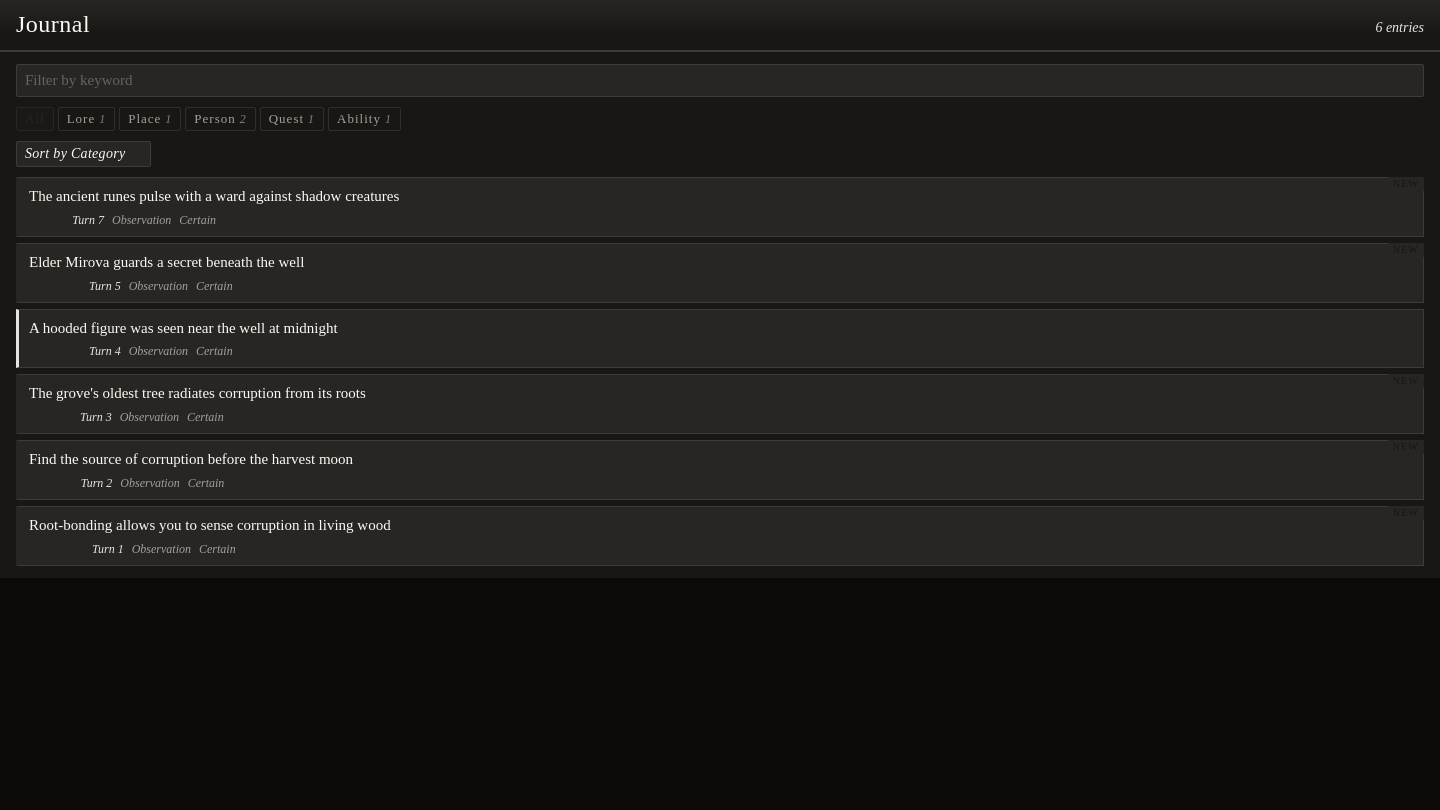
Test: AC-9: Keyword filter › clears the keyword when the clear button is clicked
Step 1. Type "corruption" into the field with test id "keyword-filter" → (720, 81), box [16, 64, 1424, 97]
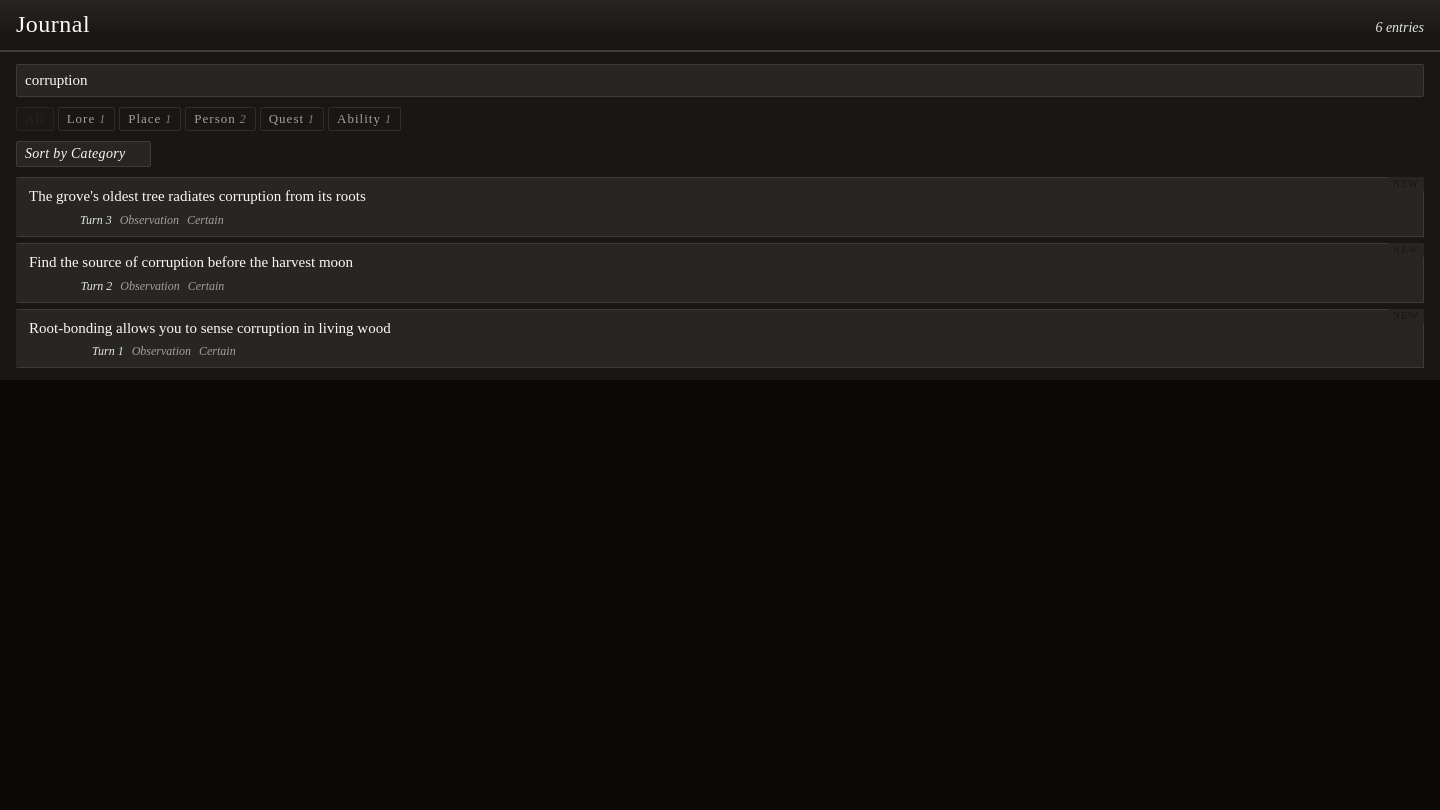
Check: the number of elements with test id "journal-entry" is 3, box [16, 177, 1424, 237]; [16, 243, 1424, 303]; [16, 308, 1424, 368]
Step 2. Click the button with test id "keyword-filter-clear" → click(1412, 71), box [1403, 61, 1420, 81]
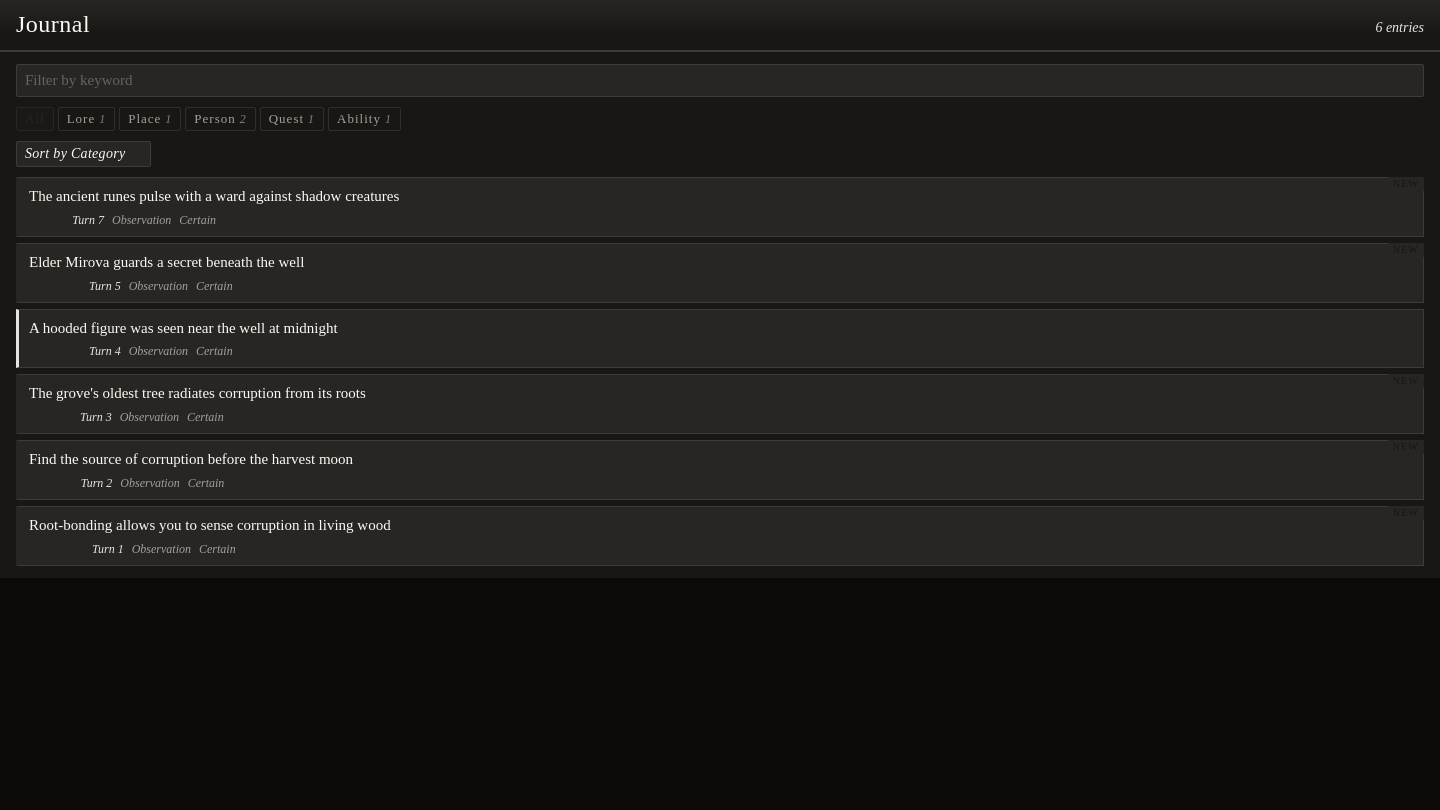
Check: the field with test id "keyword-filter" is empty, box [16, 64, 1424, 97]
Check: the number of elements with test id "journal-entry" is 6, box [16, 177, 1424, 237]; [16, 243, 1424, 303]; [16, 308, 1424, 368]; [16, 374, 1424, 434]; [16, 440, 1424, 500]; [16, 506, 1424, 566]
